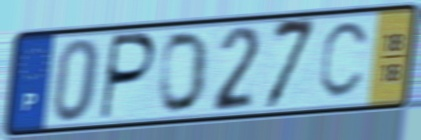0: (51, 35, 102, 125)
2: (210, 24, 263, 116)
7: (261, 16, 318, 115)
C: (316, 18, 373, 103)
O: (157, 28, 212, 116)
P: (97, 31, 159, 124)
